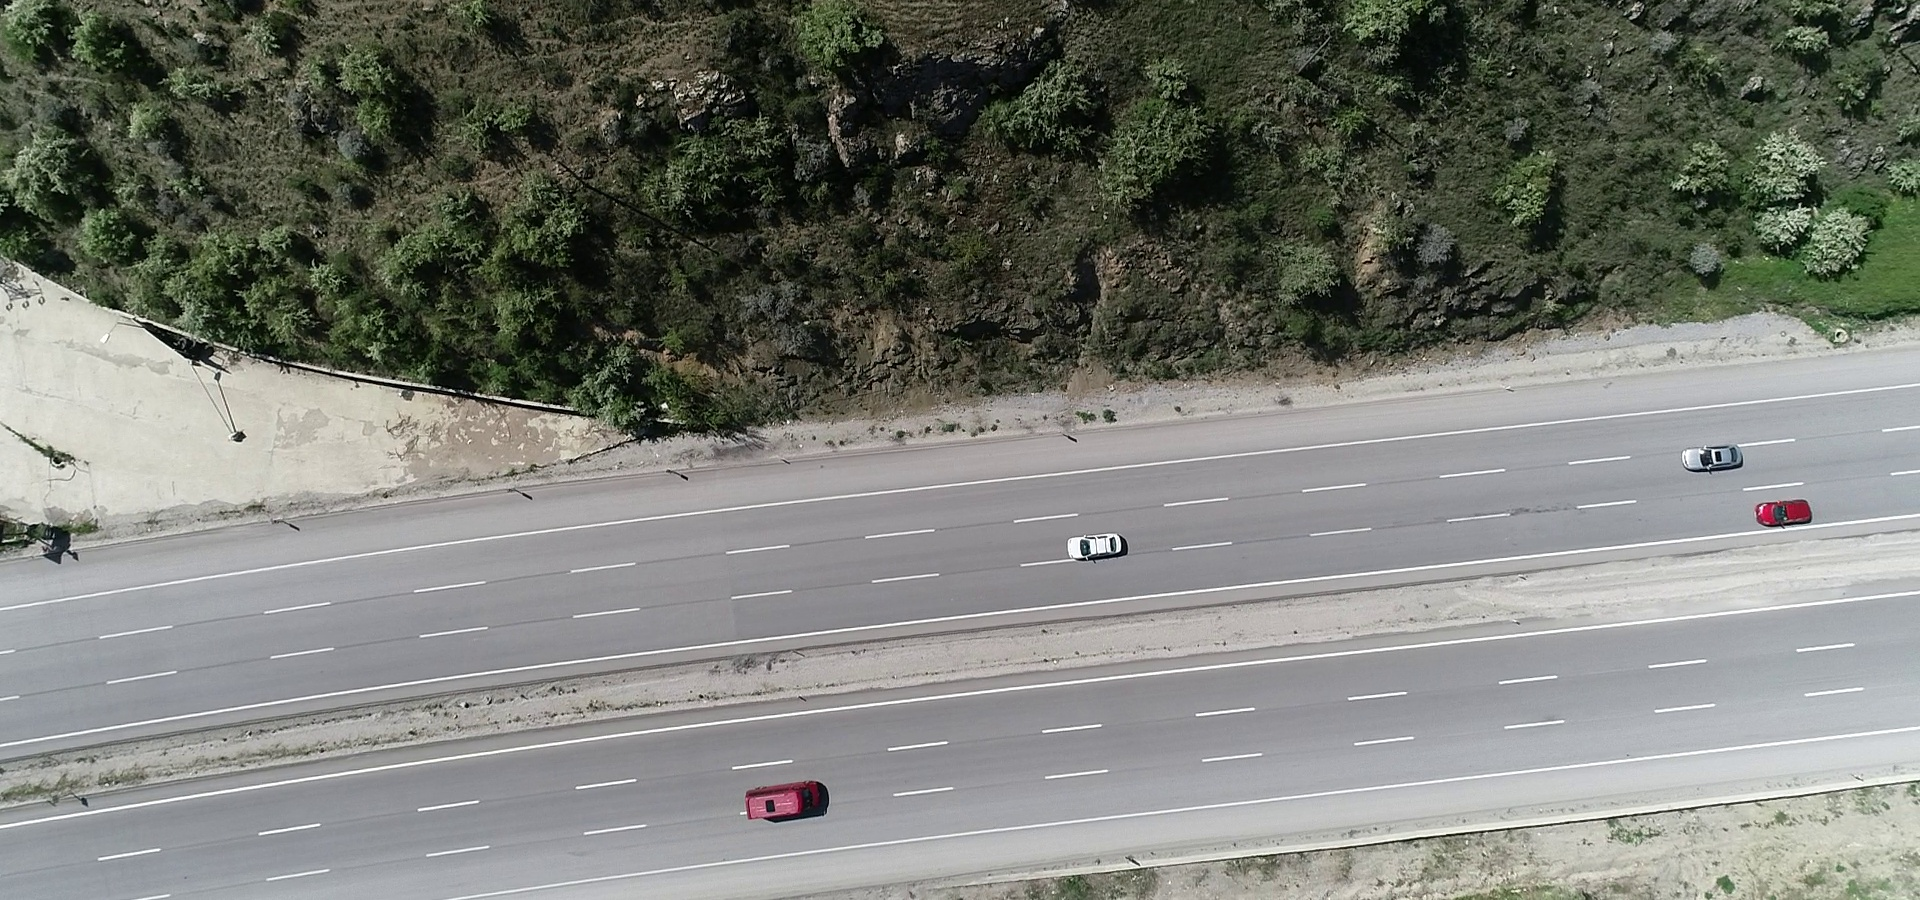arac: (742, 776, 841, 835), (1751, 495, 1823, 538), (1064, 527, 1123, 574), (1682, 440, 1753, 479)
